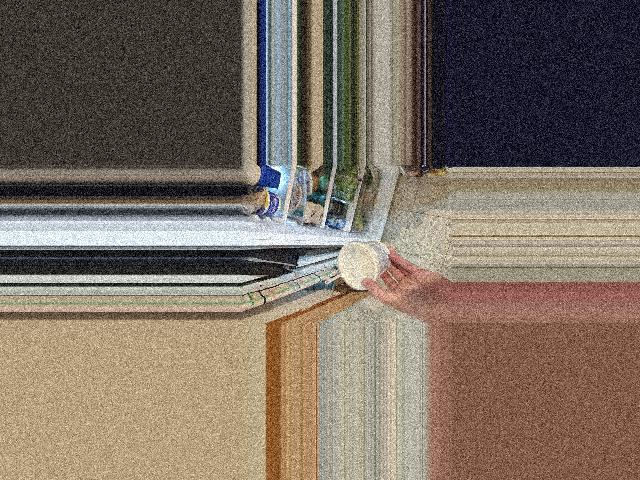cotage: (338, 243, 387, 285)
